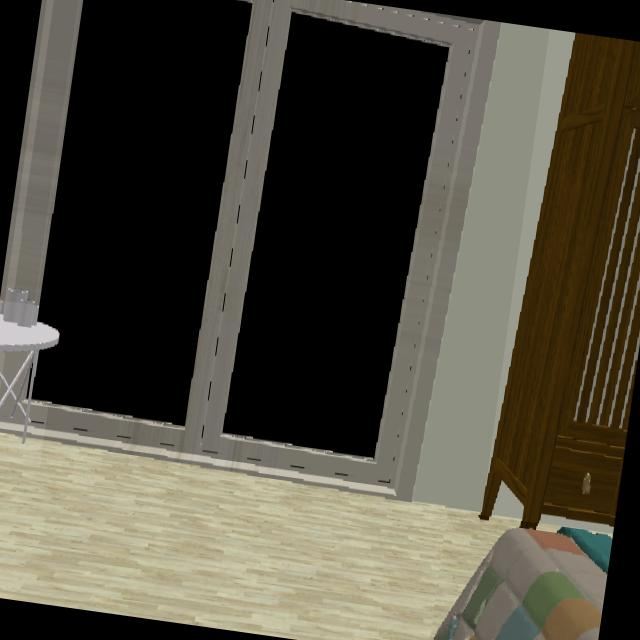bed: (437, 529, 610, 640)
table: (0, 313, 58, 442)
wardrobe: (482, 33, 640, 529)
